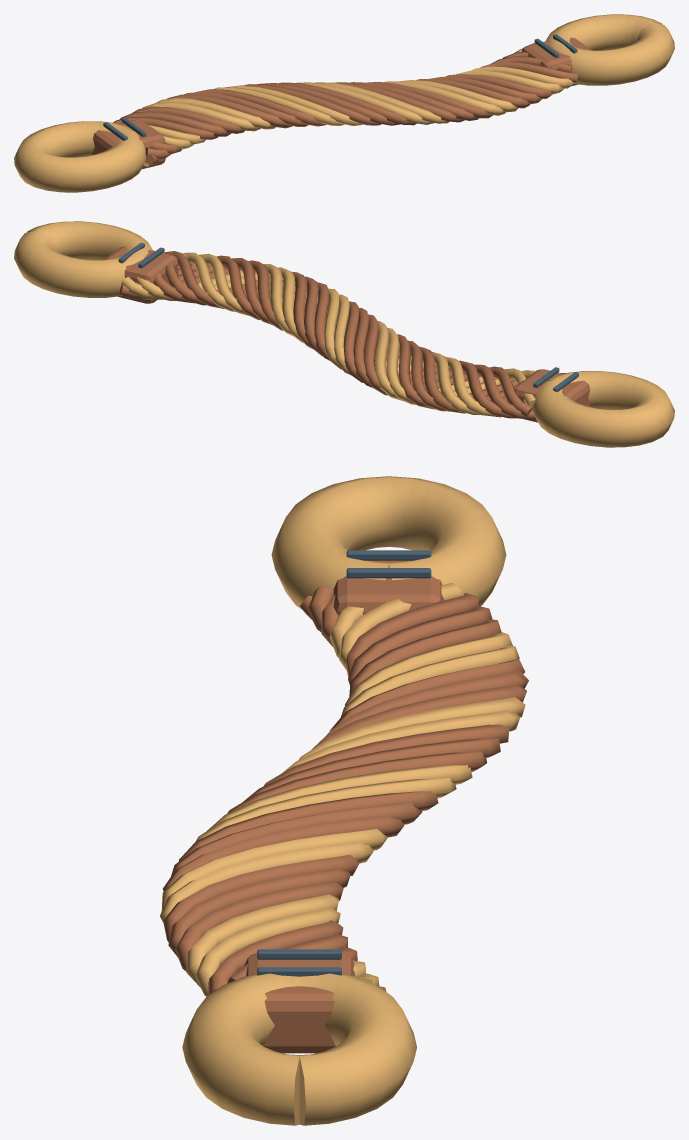
3 renders of one model, top to bottom at view 1: azimuth 30°, elevation 25°; view 2: azimuth 150°, elevation 25°; view 3: azimuth 270°, elevation 25°, orthographic. The views are drawn at different scales.
Visible parts, largest first — view 1: PR142 enamel and hardware; view 2: PR142 enamel and hardware; view 3: PR142 enamel and hardware.
Boxes of the visible parts, bbox=[...] form: PR142 enamel and hardware: bbox=[14, 14, 674, 192]; PR142 enamel and hardware: bbox=[14, 221, 674, 447]; PR142 enamel and hardware: bbox=[160, 476, 528, 1125].
Bounding box in the file's own units: 0.39 × 0.0212 × 0.0997.
